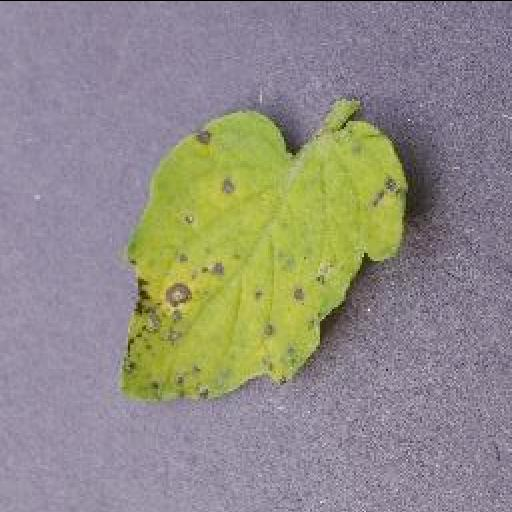disease_tomato: (114, 112, 410, 402)
